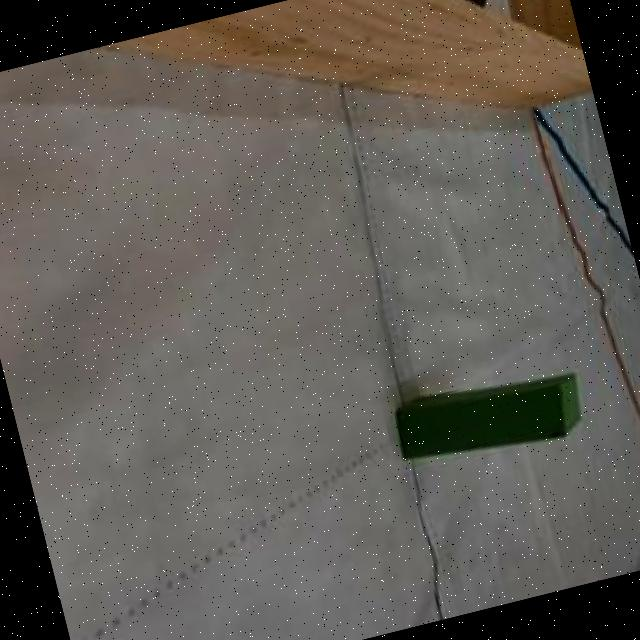greenbox: (388, 362, 582, 473)
